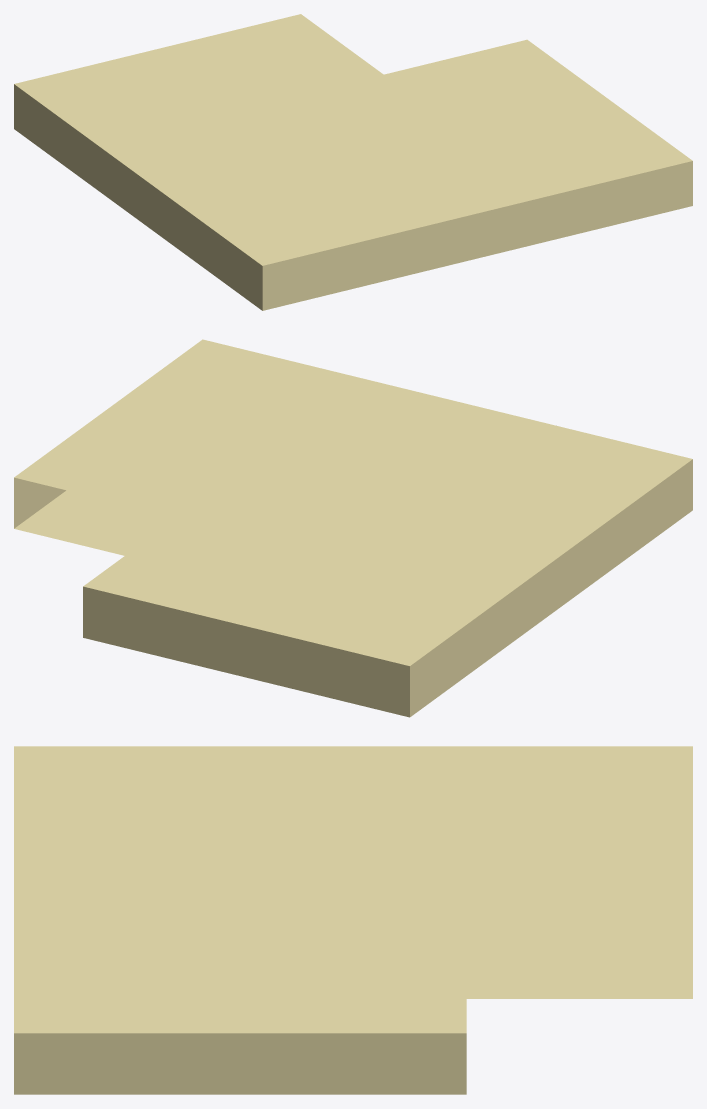
The model's file is Stage3.obj.
The picture shows the model from 3 angles, top to bottom: view 1: azimuth 30°, elevation 25°; view 2: azimuth 150°, elevation 25°; view 3: azimuth 270°, elevation 25°; orthographic projection. The views are drawn at different scales.
Parts seen in each view (by area): view 1: default; view 2: default; view 3: default.
Part boxes in pixels (x1=…): default: x1=14, y1=14, x2=692, y2=310; default: x1=14, y1=339, x2=692, y2=717; default: x1=14, y1=746, x2=692, y2=1094.
Size of the model in its own units: 5 by 0.5 by 5.
1 material, 1 textured.
